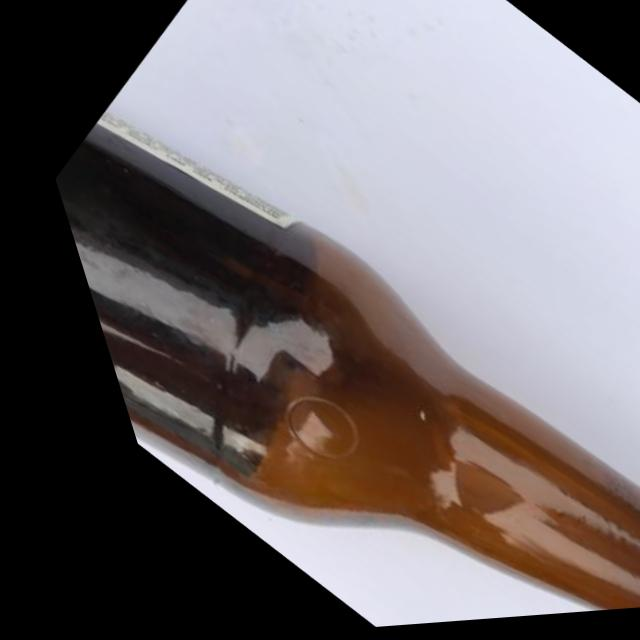glass: (11, 10, 640, 640)
